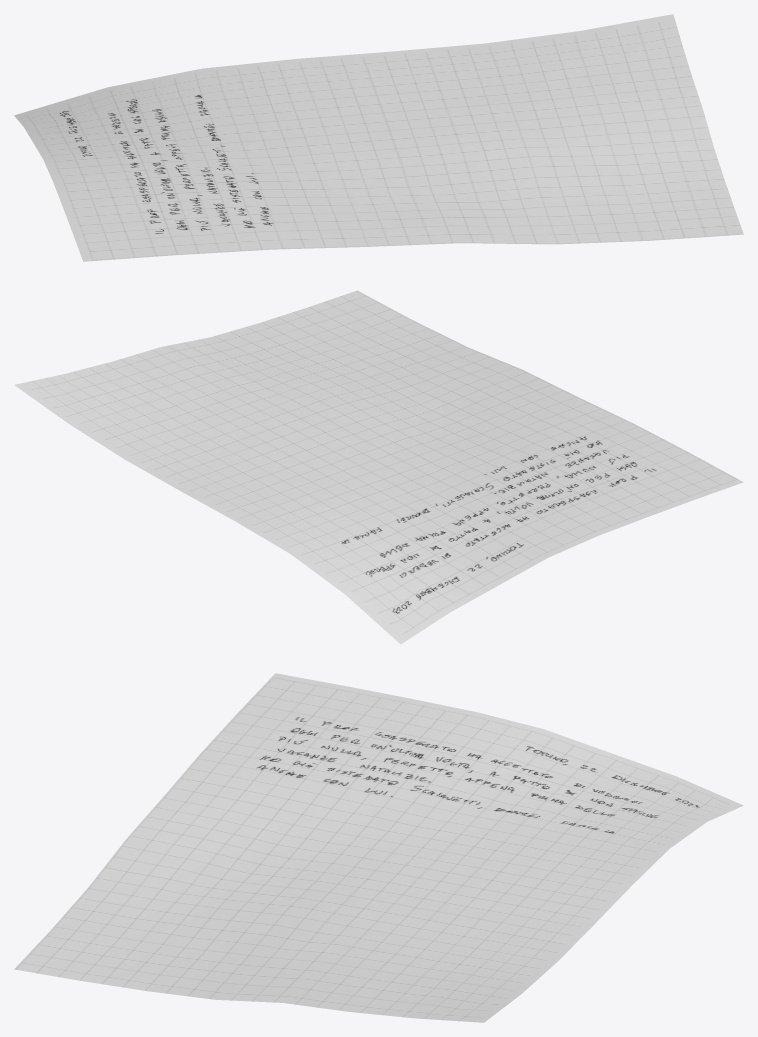
File: Pagina5.fbx
3 views of the same model, one above another, from view 1: azimuth 30°, elevation 25°; view 2: azimuth 150°, elevation 25°; view 3: azimuth 270°, elevation 25° (orthographic). The views are drawn at different scales.
Parts seen in each view (by area): view 1: foglio.005; view 2: foglio.005; view 3: foglio.005.
Boxes of the visible parts, x1,y1,x2,y2 form: foglio.005: [14, 14, 743, 261]; foglio.005: [14, 290, 743, 644]; foglio.005: [14, 673, 743, 1022].
Bounding box in the file's own units: 80.05 × 6.58 × 68.86.
